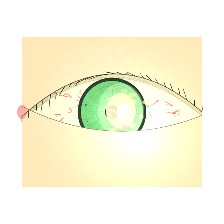corneal_ulcer: (92, 88, 150, 134)
